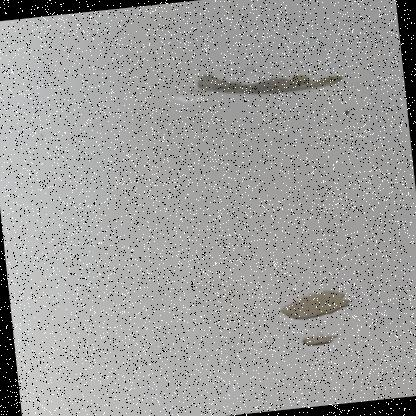Crack: (169, 34, 378, 154), (259, 261, 371, 375)
